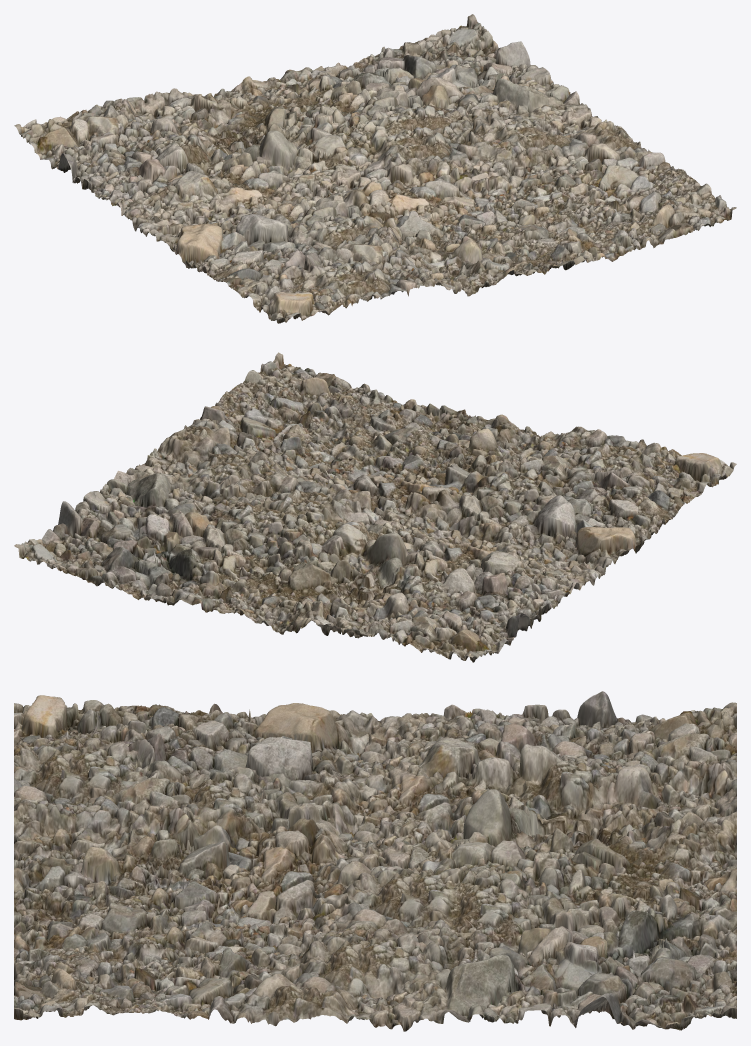
3 renders of one model, top to bottom at view 1: azimuth 30°, elevation 25°; view 2: azimuth 150°, elevation 25°; view 3: azimuth 270°, elevation 25°, orthographic. The views are drawn at different scales.
Visible parts, largest first — view 1: Plane_Material.001_0; view 2: Plane_Material.001_0; view 3: Plane_Material.001_0.
Boxes of the visible parts, x1,y1,x2,y2 form: Plane_Material.001_0: (14,14,736,323); Plane_Material.001_0: (14,352,736,662); Plane_Material.001_0: (14,691,736,1031).
Bounding box in the file's own units: 2 × 0.1951 × 2.
Materials: 1 (1 with a texture image).
